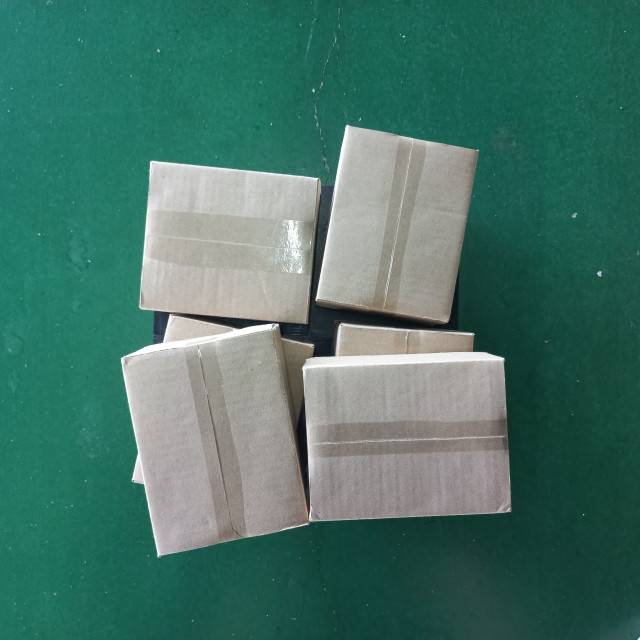box: (117, 322, 308, 562), (301, 346, 513, 523), (313, 120, 481, 327), (135, 157, 320, 329)
